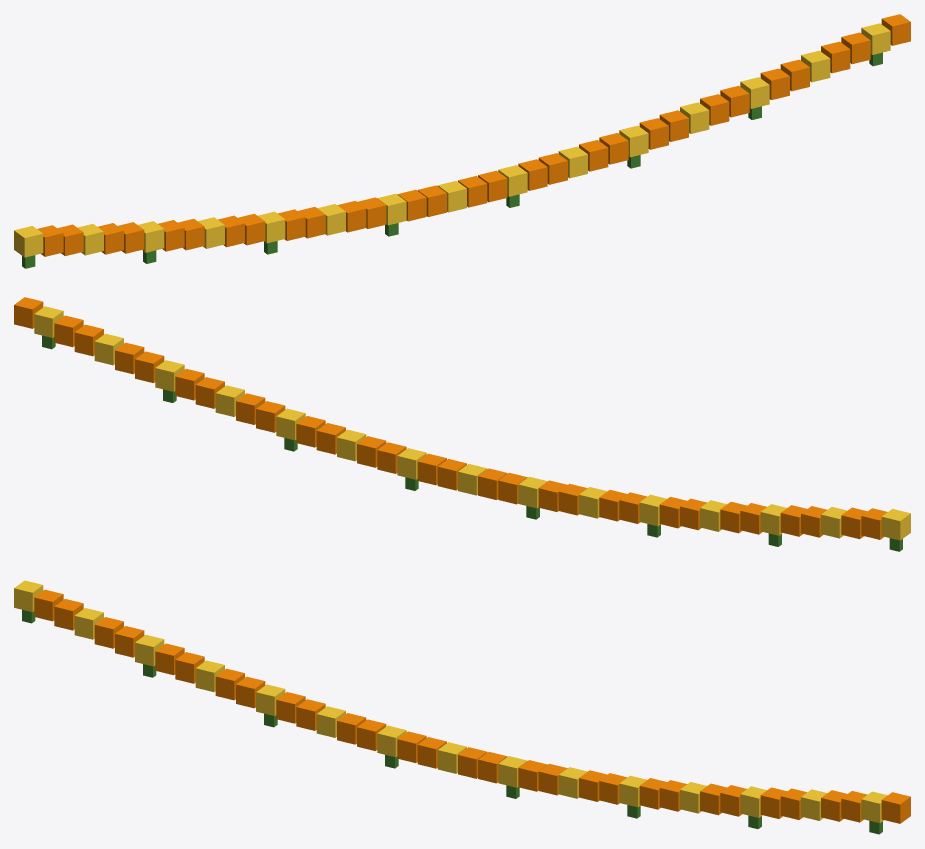
The model's file is gar_top.glb.
3 renders of one model, top to bottom at view 1: azimuth 30°, elevation 25°; view 2: azimuth 150°, elevation 25°; view 3: azimuth 330°, elevation 25°, orthographic.
Visible parts, largest first — view 1: gar_top_2, gar_top_0, gar_top_1; view 2: gar_top_2, gar_top_0, gar_top_1; view 3: gar_top_2, gar_top_0, gar_top_1.
Part boxes in pixels (<box>): gar_top_2: <box>37,14,910,256</box>; gar_top_0: <box>14,23,890,257</box>; gar_top_1: <box>22,52,882,268</box>; gar_top_2: <box>14,297,887,539</box>; gar_top_0: <box>34,306,910,540</box>; gar_top_1: <box>42,335,902,551</box>; gar_top_2: <box>34,589,910,823</box>; gar_top_0: <box>14,580,887,823</box>; gar_top_1: <box>22,609,882,834</box>.
Size of the model in its own units: 7.15 by 0.7075 by 0.15.
Materials: 3 (3 with a texture image).
